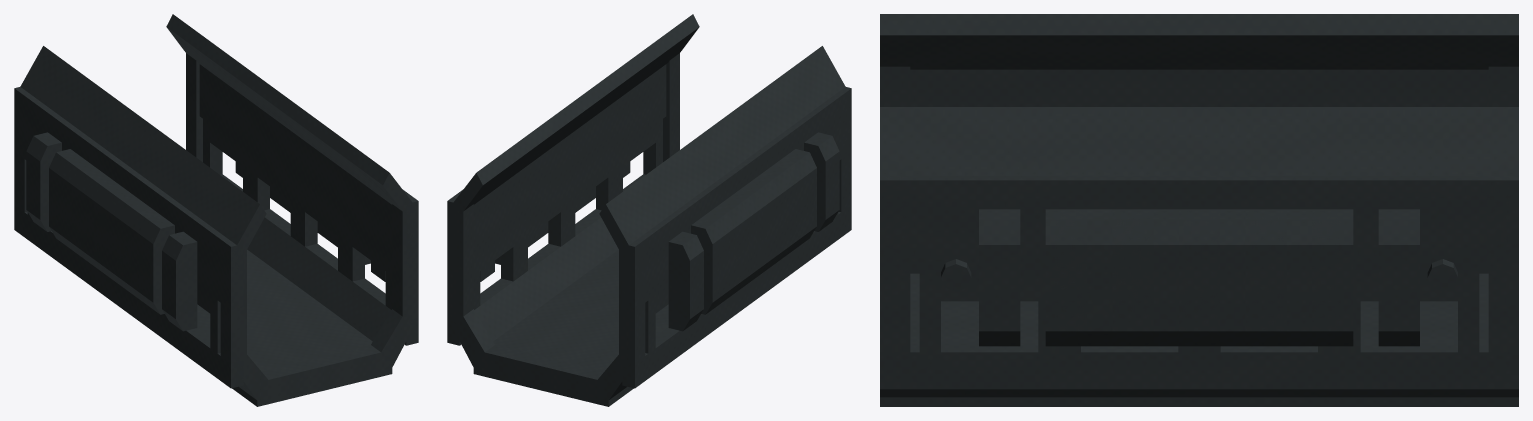
File: vityaz_rail.glb
3 renders of one model, left to right at view 1: azimuth 30°, elevation 25°; view 2: azimuth 150°, elevation 25°; view 3: azimuth 270°, elevation 25°, orthographic. The views are drawn at different scales.
Parts seen in each view (by area): view 1: handguard__vityaz_rail_LOD0_RAID_Secondary_Original_steel, handguard__vityaz_rail_LOD1_RAID_Secondary_Original_steel; view 2: handguard__vityaz_rail_LOD0_RAID_Secondary_Original_steel, handguard__vityaz_rail_LOD1_RAID_Secondary_Original_steel; view 3: handguard__vityaz_rail_LOD0_RAID_Secondary_Original_steel, handguard__vityaz_rail_LOD1_RAID_Secondary_Original_steel.
Boxes of the visible parts, left/top/right/bottom form: handguard__vityaz_rail_LOD0_RAID_Secondary_Original_steel: left=14, top=14, right=418, bottom=406; handguard__vityaz_rail_LOD1_RAID_Secondary_Original_steel: left=29, top=119, right=391, bottom=377; handguard__vityaz_rail_LOD0_RAID_Secondary_Original_steel: left=447, top=14, right=851, bottom=406; handguard__vityaz_rail_LOD1_RAID_Secondary_Original_steel: left=474, top=120, right=813, bottom=377; handguard__vityaz_rail_LOD0_RAID_Secondary_Original_steel: left=880, top=14, right=1518, bottom=406; handguard__vityaz_rail_LOD1_RAID_Secondary_Original_steel: left=921, top=209, right=1478, bottom=389.
Size of the model in its own units: 0.129 by 0.117 by 0.21.
1 material, 1 textured.
